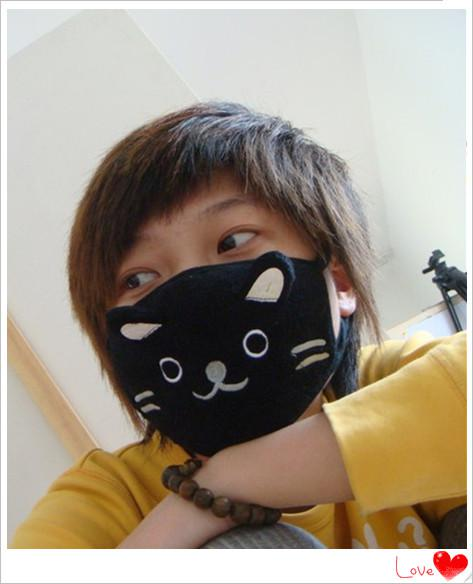OK: (83, 196, 333, 446)
